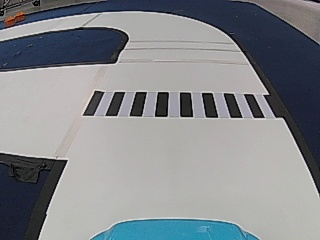CrossWalk: (83, 91, 282, 119)
